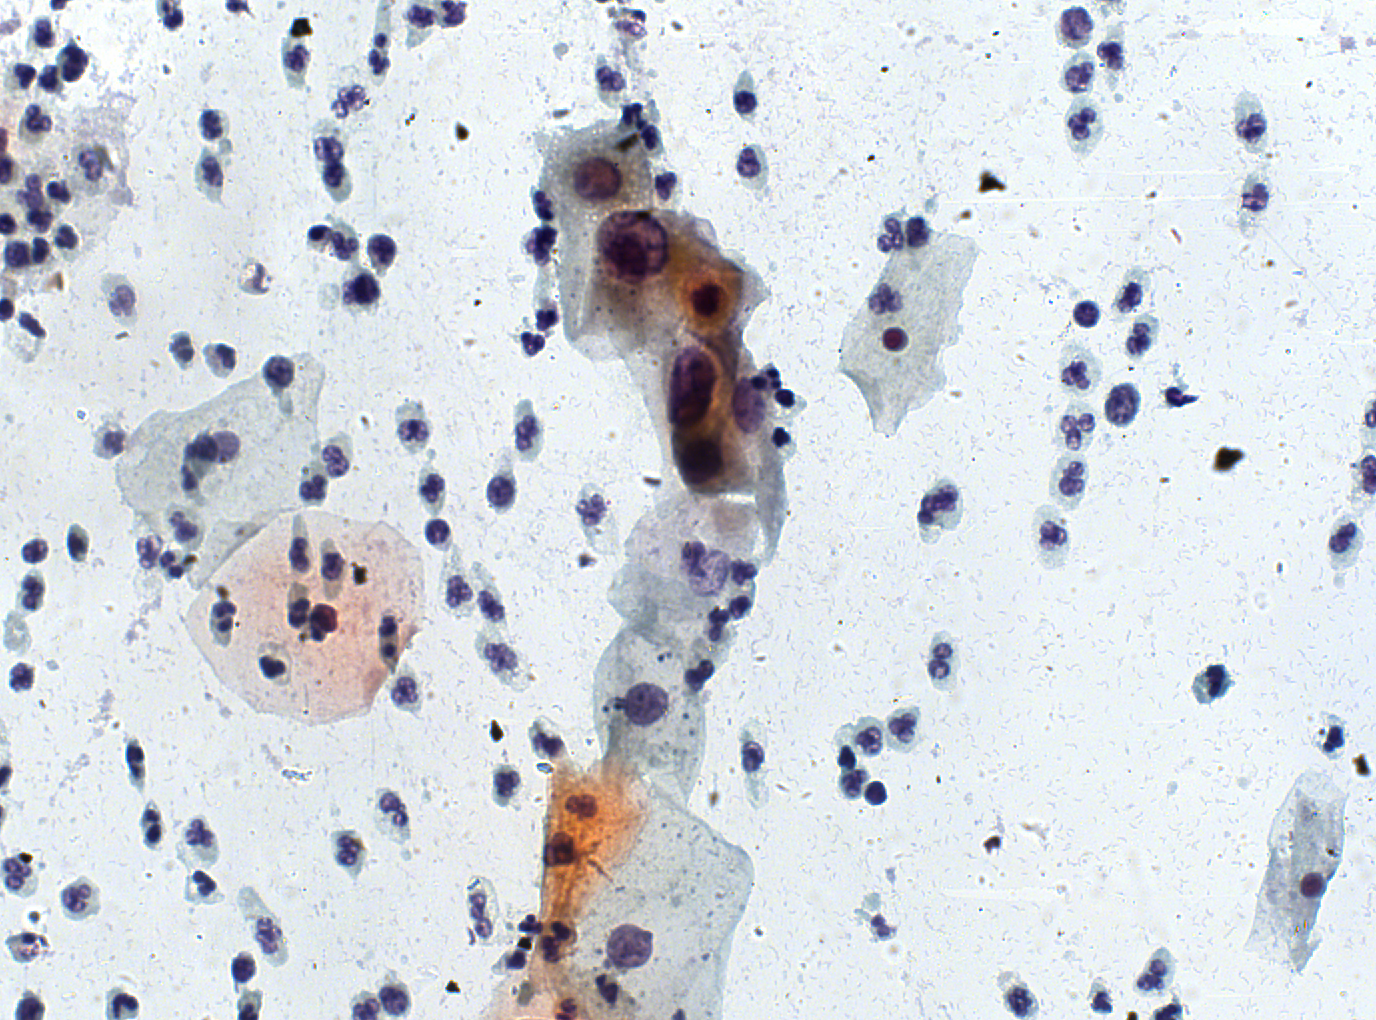Abn: (592, 211, 673, 280), (664, 348, 719, 427), (673, 425, 732, 487), (569, 156, 625, 202), (729, 373, 767, 437), (689, 280, 728, 322)
